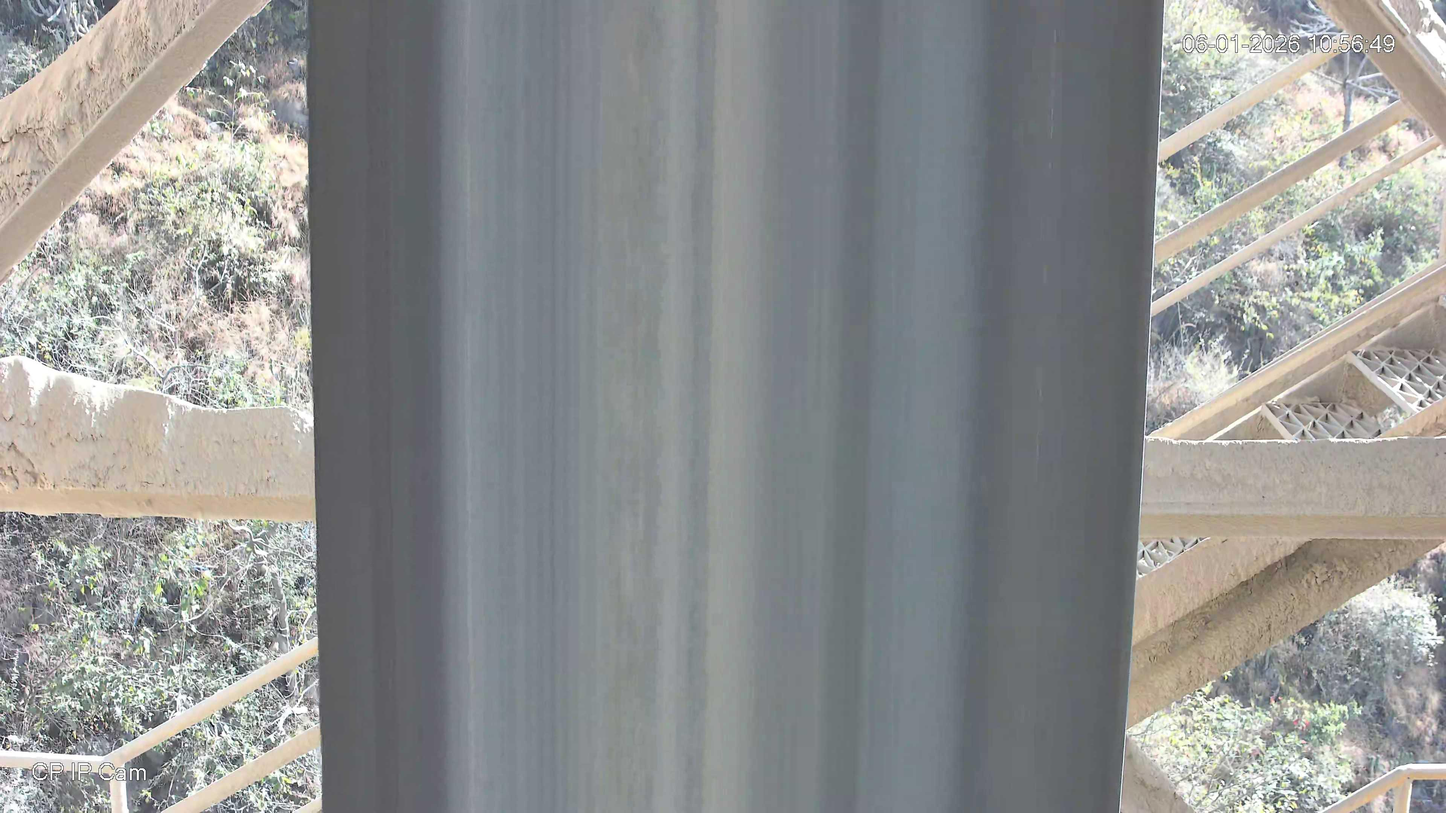belt_roi: (306, 0, 1161, 813)
